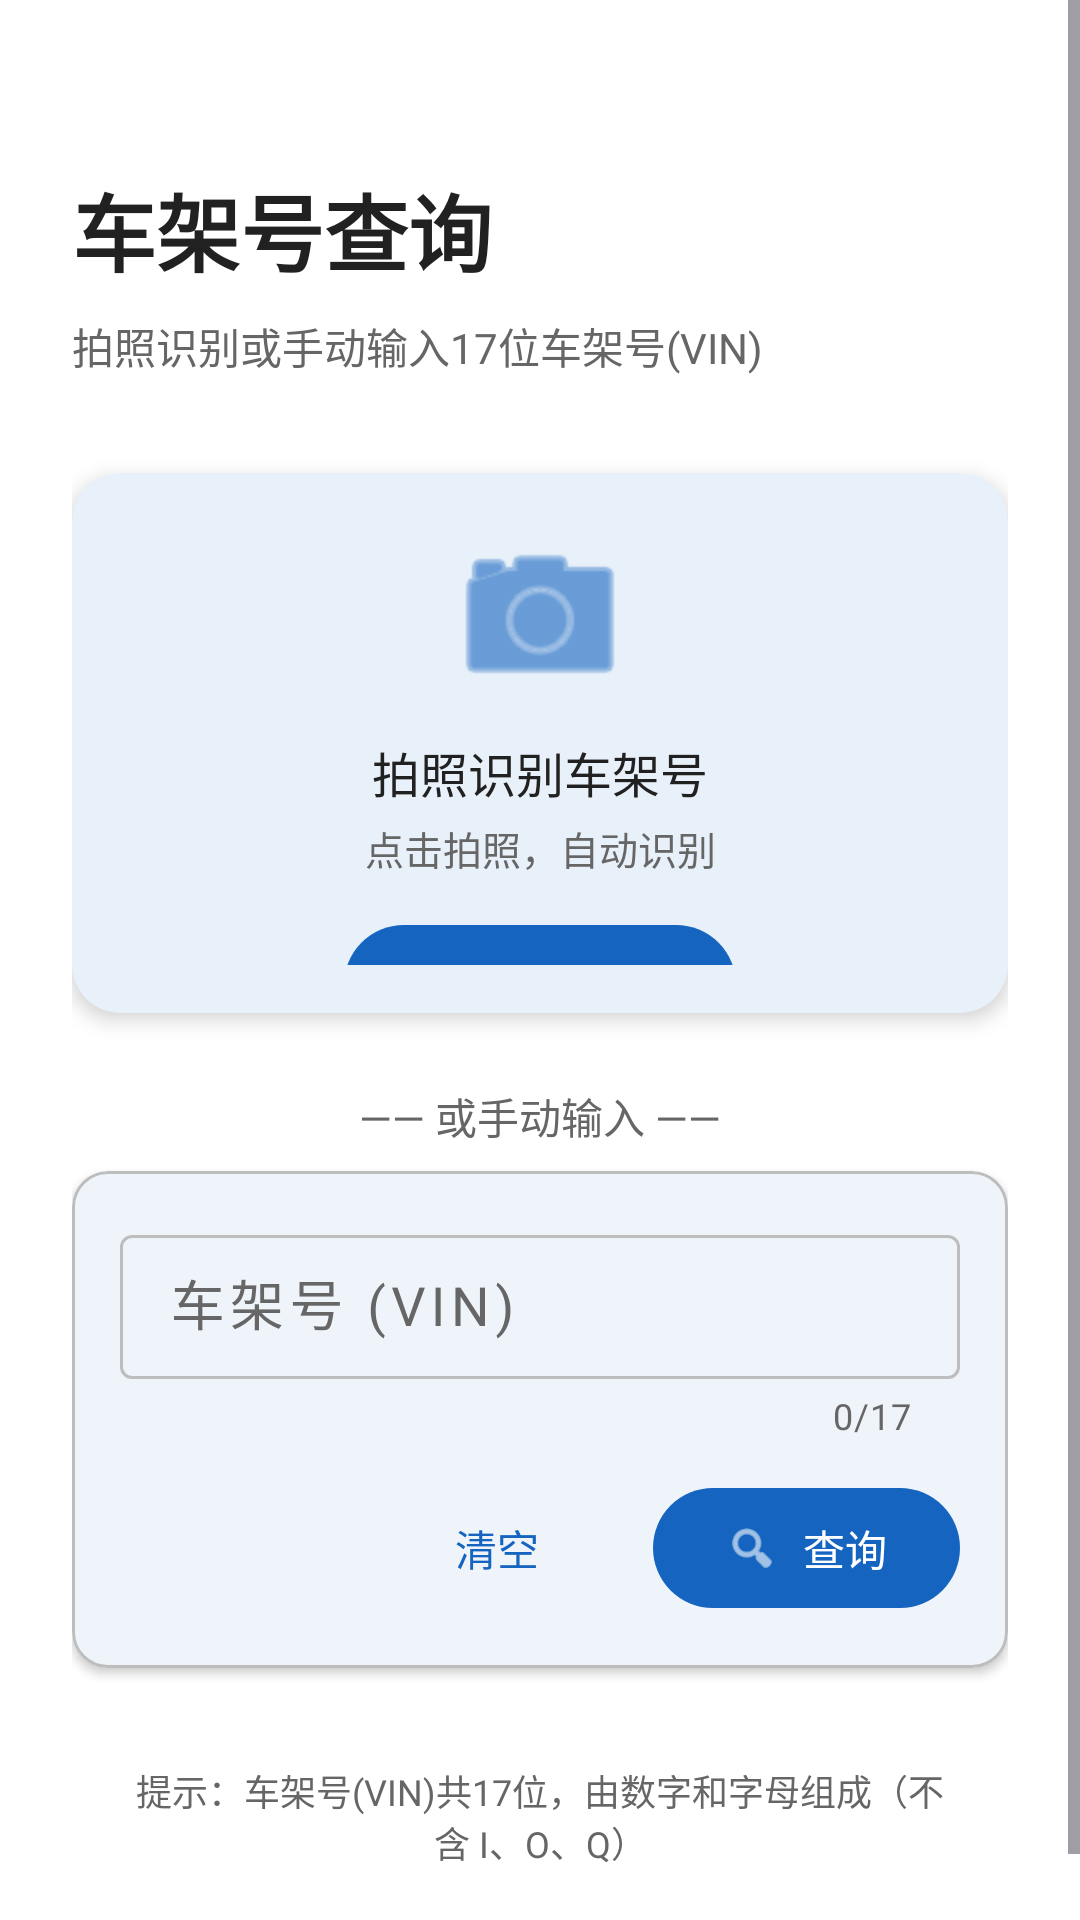

Screen size 1080x1920. Icon name, then its box in pixels as (x1, y1, x2, y2):
扫描: (466, 555, 614, 673)
